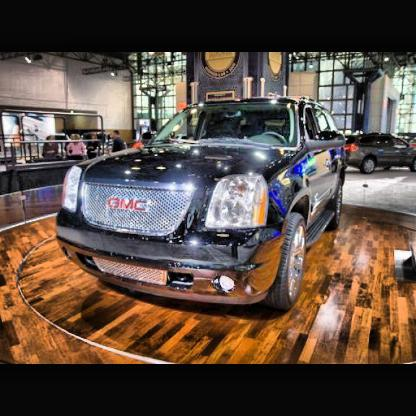GMC Yukon Hybrid SUV 2012: (57, 97, 350, 314)
